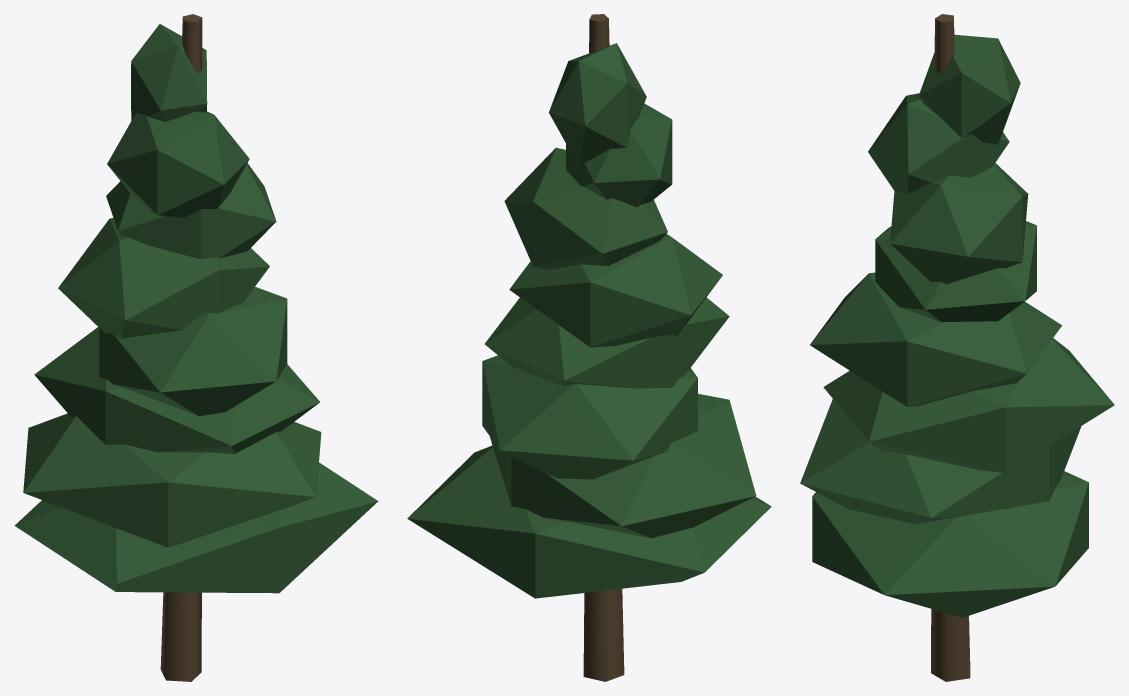
The picture shows the model from 3 angles, left to right: view 1: azimuth 30°, elevation 25°; view 2: azimuth 150°, elevation 25°; view 3: azimuth 270°, elevation 25°; orthographic projection.
Parts seen in each view (by area): view 1: pine-leaf; view 2: pine-leaf; view 3: pine-leaf.
Part boxes in pixels (box(x1,y1,x2,y2)): pine-leaf: box(14, 14, 378, 681); pine-leaf: box(407, 14, 771, 681); pine-leaf: box(800, 14, 1114, 681).
Size of the model in its own units: 5.1 by 10.01 by 4.33.
